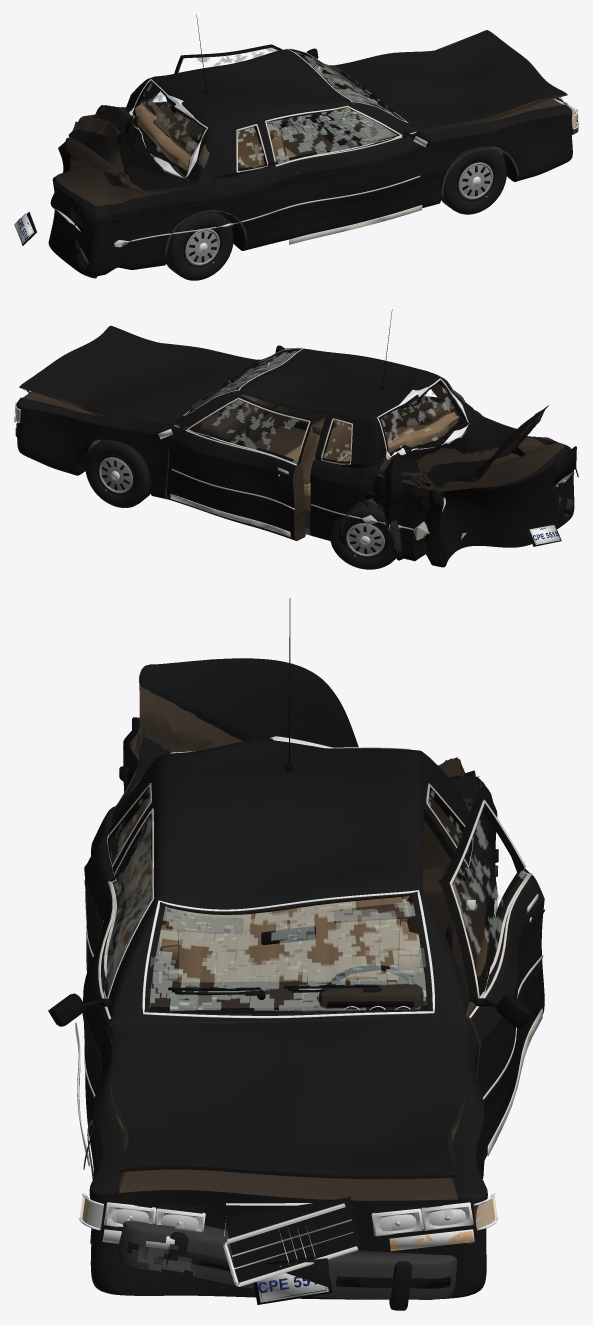
Rendered from coupe84_rear_corner_d2_lod1.glb.
3 views of the same model, one above another, from view 1: azimuth 30°, elevation 25°; view 2: azimuth 150°, elevation 25°; view 3: azimuth 270°, elevation 25° (orthographic). The views are drawn at different scales.
Parts seen in each view (by area): view 1: Body, Hood, Door_FR, Interior, Trunk, Wheel_RR_mesh, Wheel_FR_mesh, Glass, Glass_FR, Trim_FR, Trim, Ends (+2 smaller); view 2: Body, Hood, Door_FL, Interior, Trunk, Wheel_FL_mesh, Wheel_RL_mesh, Glass, Trim_FL, Trim, Ends, Glass_FL (+1 smaller); view 3: Body, Hood, Interior, Glass, Ends, Trunk, Door_FL, Bumper_F, Door_FR, Trim_FL, Trim, Trim_FR (+3 smaller).
Part boxes in pixels (bbox=[...]): Body: bbox=[48, 49, 572, 276]; Hood: bbox=[332, 30, 567, 133]; Door_FR: bbox=[264, 105, 425, 241]; Interior: bbox=[135, 65, 394, 170]; Trunk: bbox=[65, 105, 195, 193]; Wheel_RR_mesh: bbox=[166, 212, 233, 280]; Wheel_FR_mesh: bbox=[441, 146, 506, 214]; Glass: bbox=[129, 48, 408, 177]; Glass_FR: bbox=[265, 106, 398, 166]; Trim_FR: bbox=[265, 105, 430, 244]; Trim: bbox=[113, 14, 519, 256]; Ends: bbox=[14, 58, 578, 245]; Body: bbox=[16, 348, 574, 567]; Hood: bbox=[19, 325, 258, 425]; Door_FL: bbox=[167, 396, 313, 540]; Interior: bbox=[189, 367, 459, 496]; Trunk: bbox=[380, 405, 548, 487]; Wheel_FL_mesh: bbox=[85, 439, 150, 507]; Wheel_RL_mesh: bbox=[330, 503, 395, 569]; Glass: bbox=[183, 347, 469, 465]; Trim_FL: bbox=[155, 397, 310, 537]; Trim: bbox=[202, 309, 432, 551]; Ends: bbox=[14, 372, 578, 546]; Glass_FL: bbox=[190, 397, 310, 466]; Body: bbox=[85, 725, 497, 1299]; Hood: bbox=[107, 1021, 469, 1178]; Interior: bbox=[150, 895, 427, 1010]; Glass: bbox=[110, 736, 468, 1018]; Ends: bbox=[78, 717, 498, 1304]; Trunk: bbox=[116, 658, 483, 806]; Door_FL: bbox=[438, 798, 544, 1159]; Bumper_F: bbox=[116, 1220, 457, 1310]; Door_FR: bbox=[83, 807, 155, 1158]; Trim_FL: bbox=[449, 799, 544, 1156]; Trim: bbox=[83, 598, 498, 1243]; Trim_FR: bbox=[48, 808, 153, 1166].
Bounding box in the file's own units: 5.34 × 2.19 × 2.18.
Materials: 34 (5 with a texture image).
